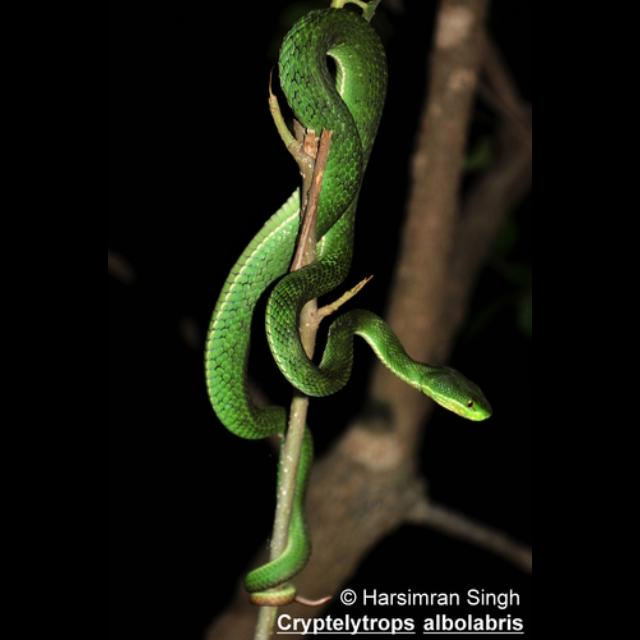snake: (198, 2, 502, 592)
